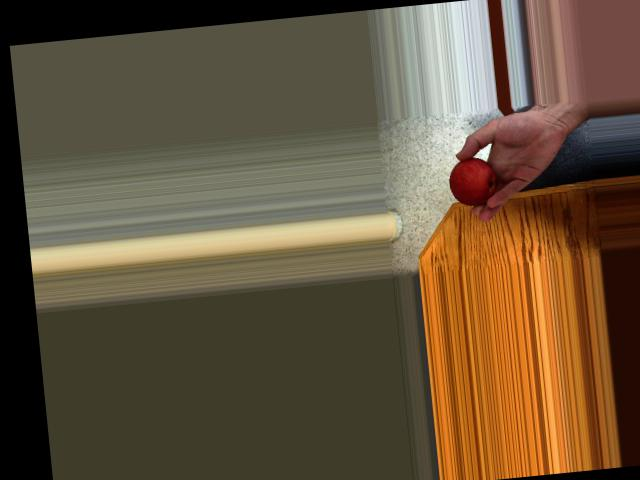apple: (445, 147, 501, 208)
